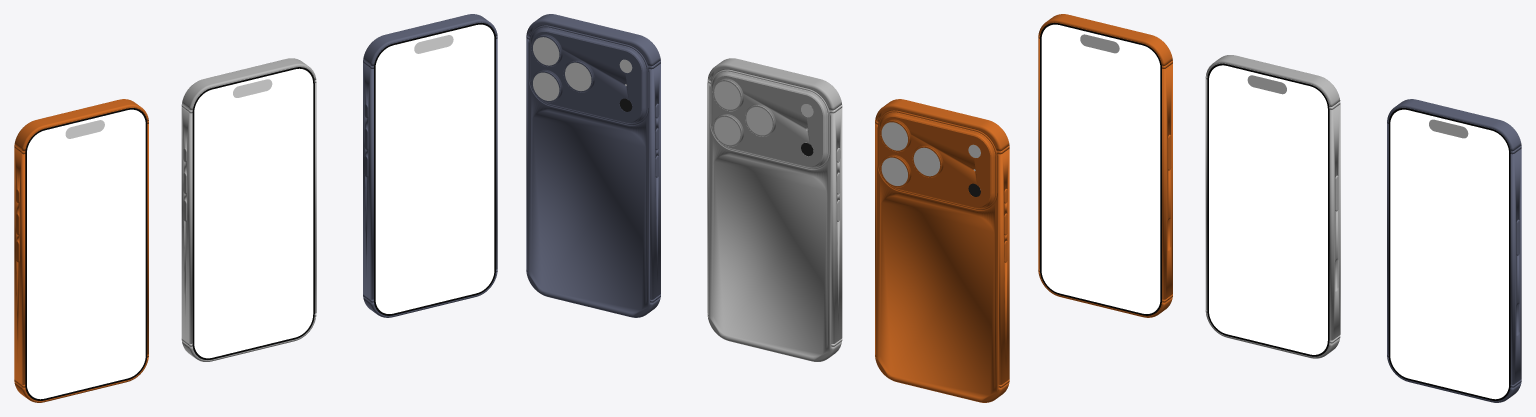
The model's file is uploads_files_6420976_I+phone+17+pro.gltf.
3 views of the same model, side by side, from view 1: azimuth 30°, elevation 25°; view 2: azimuth 150°, elevation 25°; view 3: azimuth 330°, elevation 25° (orthographic).
Parts seen in each view (by area): view 1: Cylinder.024, Cylinder.045, Cylinder.038; view 2: Cylinder.024, Cylinder.038, Cylinder.045, Cylinder.047, Cylinder.028, Cylinder.037, Cylinder.026, Cylinder.040, Cylinder.049, Cylinder.042, Cylinder.023, Cylinder.044; view 3: Cylinder.024, Cylinder.038, Cylinder.045.
Boxes of the visible parts, <box> form: Cylinder.024: <box>181,58,316,361</box>; Cylinder.045: <box>363,14,497,317</box>; Cylinder.038: <box>14,99,148,402</box>; Cylinder.024: <box>707,58,842,361</box>; Cylinder.038: <box>875,99,1009,402</box>; Cylinder.045: <box>526,14,660,317</box>; Cylinder.047: <box>533,37,559,65</box>; Cylinder.028: <box>746,107,772,135</box>; Cylinder.037: <box>881,157,907,185</box>; Cylinder.026: <box>714,81,740,109</box>; Cylinder.040: <box>881,122,907,150</box>; Cylinder.049: <box>565,62,591,90</box>; Cylinder.042: <box>913,147,940,176</box>; Cylinder.023: <box>714,116,740,145</box>; Cylinder.044: <box>533,72,559,100</box>; Cylinder.024: <box>1205,55,1340,358</box>; Cylinder.038: <box>1038,14,1172,317</box>; Cylinder.045: <box>1387,99,1521,402</box>.
Size of the model in its own units: 7.29 by 4.04 by 0.363.
